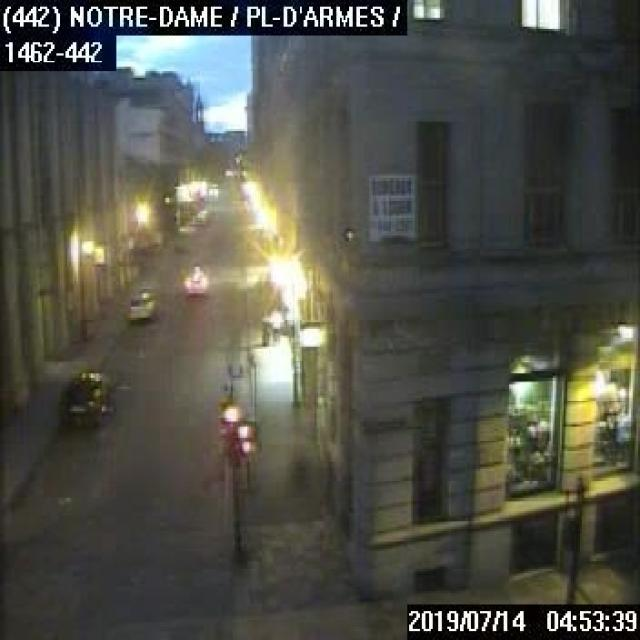pedestrian: (267, 307, 278, 340), (260, 311, 270, 344)
vehicle: (54, 369, 114, 429), (128, 284, 156, 320), (183, 264, 206, 296)
